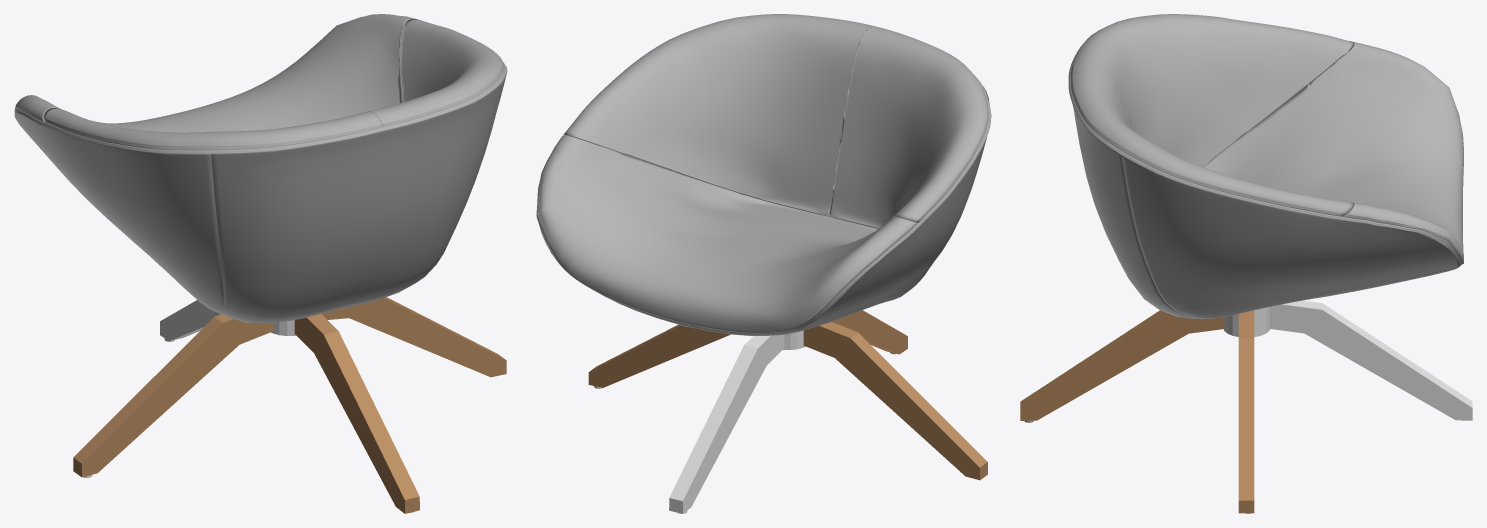
File: chair3.dae
The picture shows the model from 3 angles, left to right: view 1: azimuth 30°, elevation 25°; view 2: azimuth 150°, elevation 25°; view 3: azimuth 270°, elevation 25°; orthographic projection. The views are drawn at different scales.
Parts seen in each view (by area): view 1: MART_ncl1_2, MART_ncl1_3, MART, pCube1, MART_ncl1_8, MART_ncl1_6; view 2: MART_ncl1_3, MART, MART_ncl1_2, MART_ncl1_6, MART_ncl1_8, pCube1; view 3: MART_ncl1_3, MART_ncl1_2, MART_ncl1_6, pCube1, MART_ncl1_8, MART_ncl1_4.
Boxes of the visible parts, box(x1,y1,x2,y2) form: MART_ncl1_2: box(14, 70, 507, 323); MART_ncl1_3: box(14, 14, 506, 154); MART: box(73, 314, 273, 477); pCube1: box(294, 314, 419, 513); MART_ncl1_8: box(321, 297, 506, 377); MART_ncl1_6: box(160, 300, 220, 341); MART_ncl1_3: box(536, 14, 991, 335); MART: box(803, 322, 987, 480); MART_ncl1_2: box(539, 85, 991, 335); MART_ncl1_6: box(669, 334, 784, 513); MART_ncl1_8: box(588, 324, 730, 387); pCube1: box(832, 310, 907, 354); MART_ncl1_3: box(1068, 14, 1463, 267); MART_ncl1_2: box(1072, 49, 1457, 318); MART_ncl1_6: box(1269, 300, 1472, 420); pCube1: box(1020, 310, 1224, 420); MART_ncl1_8: box(1238, 310, 1254, 513); MART_ncl1_4: box(1223, 307, 1269, 337).
Bounding box in the file's own units: 14.33 × 12.12 × 14.3.
